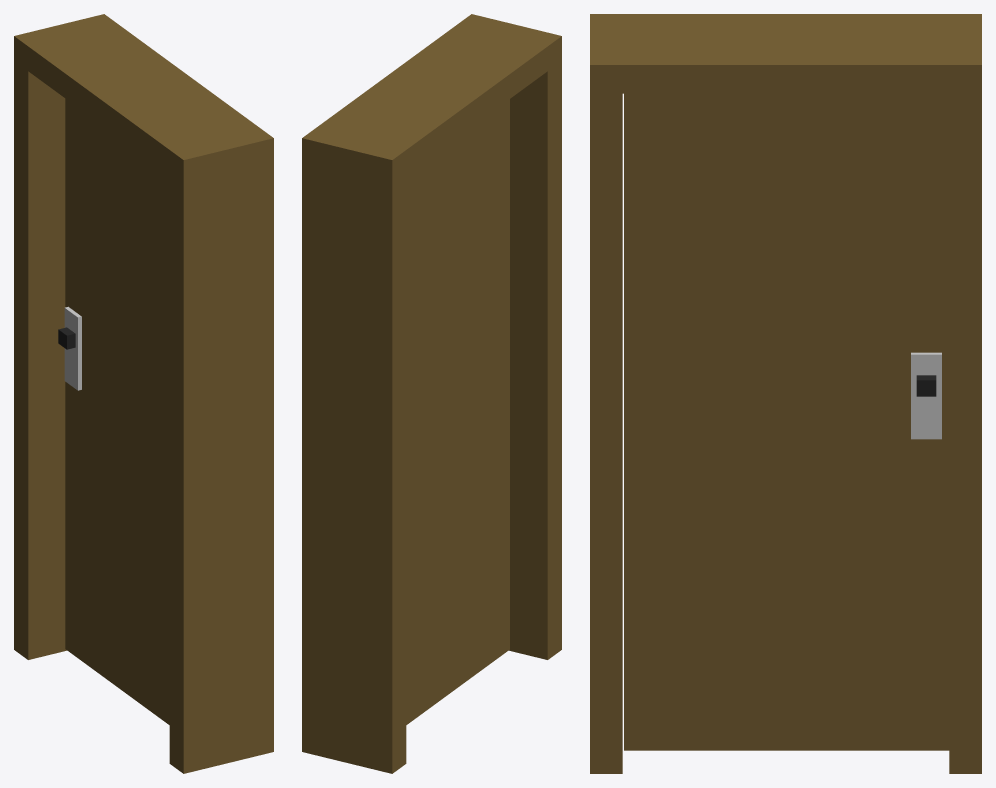
Rendered from door2.fbx.
3 views of the same model, side by side, from view 1: azimuth 30°, elevation 25°; view 2: azimuth 150°, elevation 25°; view 3: azimuth 270°, elevation 25° (orthographic). The views are drawn at different scales.
Visible parts, largest first — view 1: door2Portal, door2; view 2: door2Portal, door2; view 3: door2, door2Portal.
Part boxes in pixels (x1,y1,x2,y2): door2Portal: (14, 14, 273, 773); door2: (58, 98, 169, 724); door2Portal: (302, 14, 561, 773); door2: (406, 99, 509, 724); door2: (624, 93, 949, 750); door2Portal: (590, 14, 981, 773).
Size of the model in its own units: 84.34 by 548 by 274.
